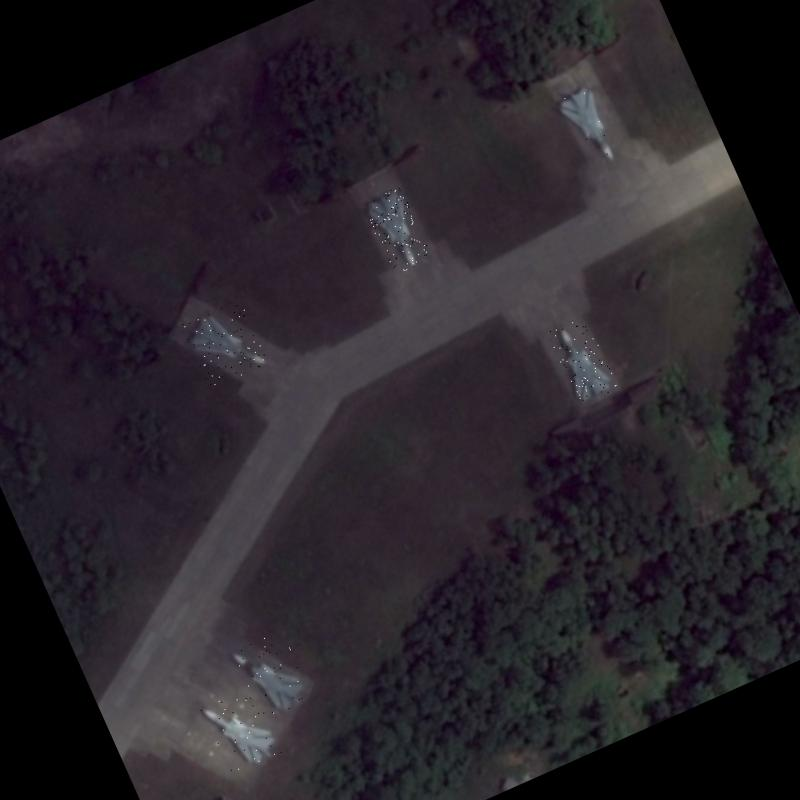A20: (182, 298, 270, 389), (200, 684, 284, 776), (231, 630, 313, 722), (361, 184, 433, 276), (547, 314, 619, 406), (554, 80, 624, 172)
